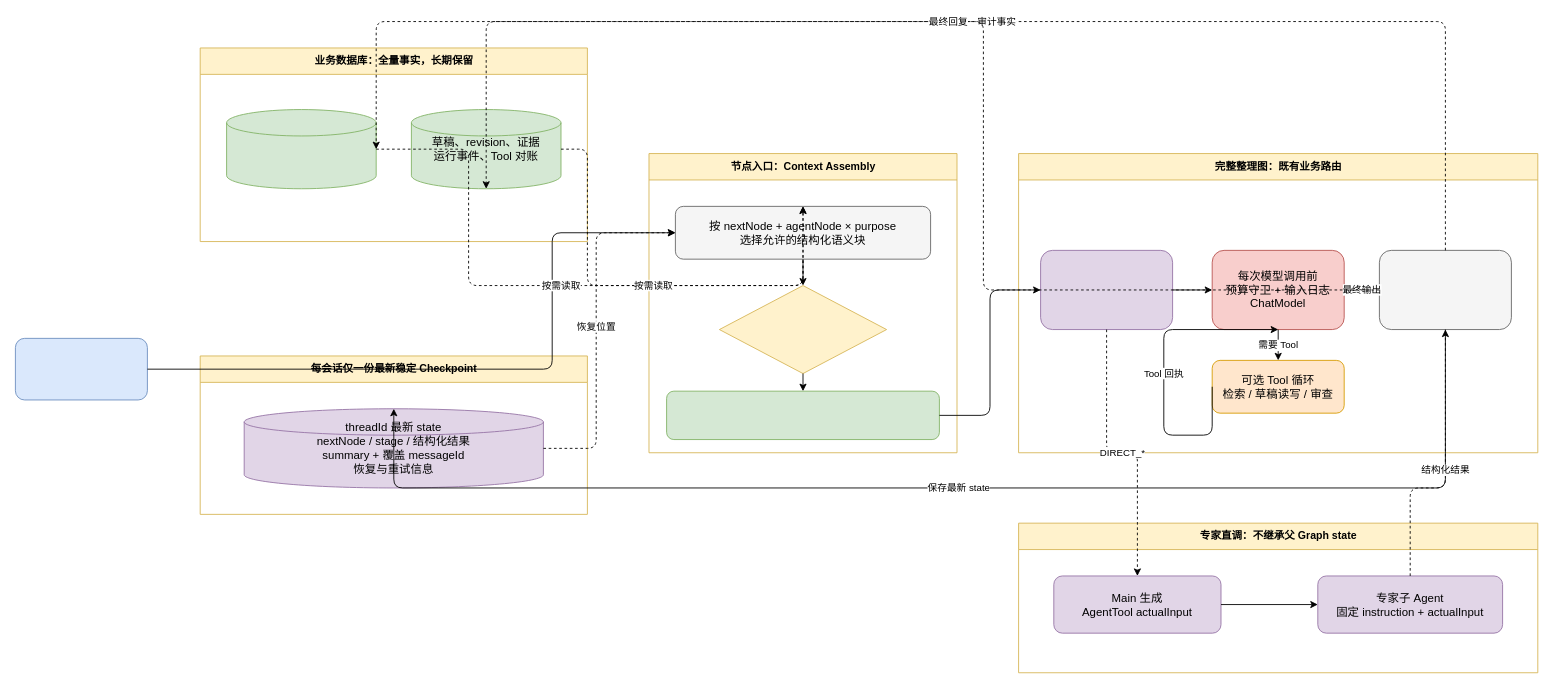
Image size: 1553x688. Some labels were removed from this diagram. The shapes that lost their labels are listed below. From the top down, each one's centre as x and y in pixels, then its label:
[301,149]: 对话 knowledge_task_message 全量 User / 最终回复
[1106,289]: 当前 ReactAgent Main / Retriever / Coordinator Drafter / Reviewer
[1445,289]: 校验后的结构化结果 写入对应 state 字段
[803,329]: 预算与压缩 确定性裁剪 → 受限 LLM 摘要 → BLOCKED
[81,368]: 管理员 新指令 / 追加指导
[802,415]: PreparedModelContext 稳定前缀：固定规则 / 范围 / summary / 排序引用 动态后缀：当前任务 / 指导 / 当前结果
